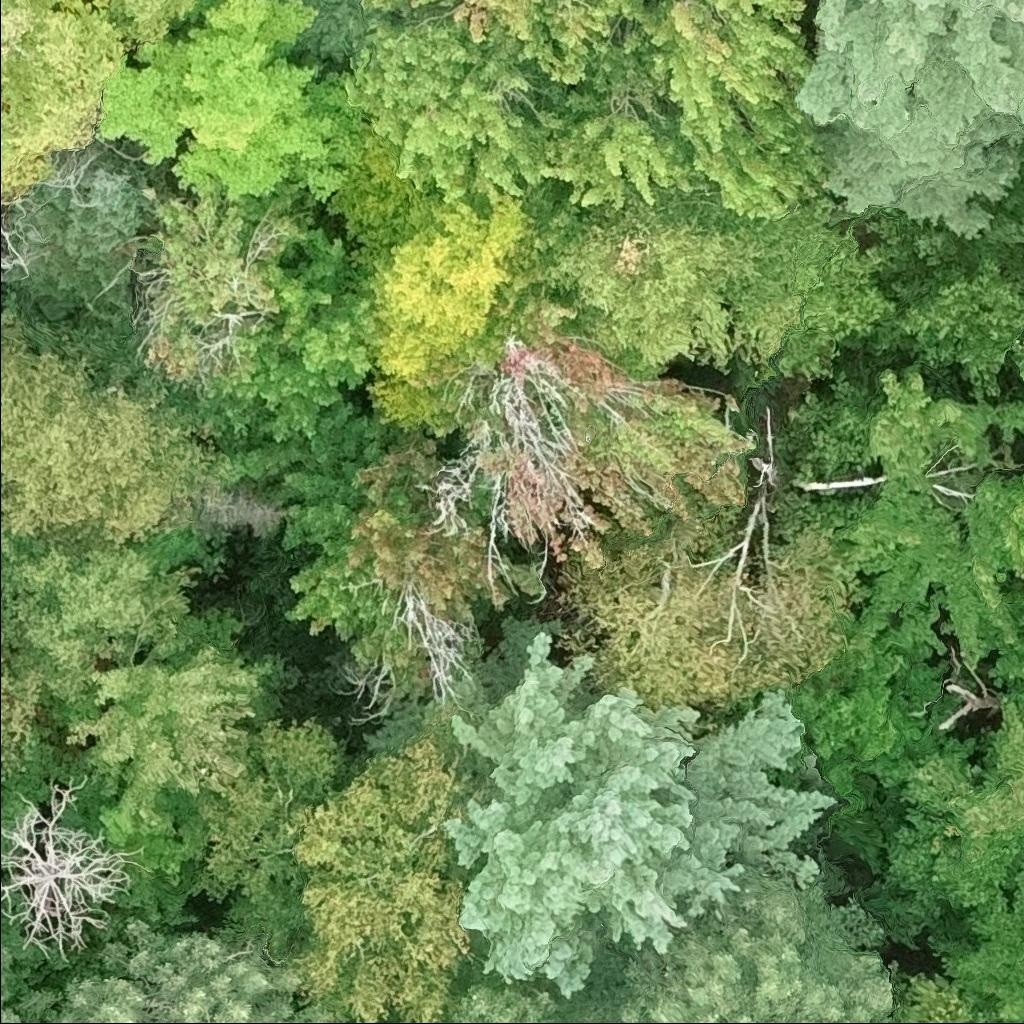crown: (441, 615, 843, 1000), (594, 866, 909, 1023), (15, 917, 335, 1023), (438, 975, 615, 1023), (899, 971, 1004, 1023), (0, 938, 36, 1023)
